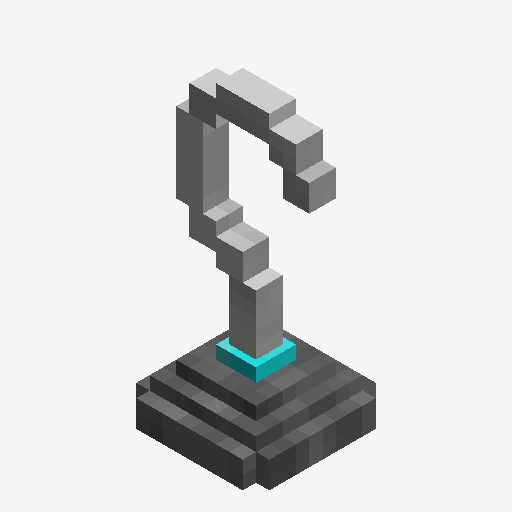
A Minecraft block model of 15 cuboids, rendered isometrically (azimuth 45°, elevation 35.3°) with the resource pack's own textures.
Visible parts, largest first — element 1, element 2, element 12, element 14, element 5, element 4, element 9, element 6, element 10, element 7, element 3, element 11 (+1 smaller).
Boxes of the visible parts, <box> form: element 1: <box>150,360,361,451</box>; element 2: <box>176,330,335,420</box>; element 12: <box>256,390,375,489</box>; element 14: <box>136,390,255,489</box>; element 5: <box>176,99,228,213</box>; element 4: <box>229,268,282,358</box>; element 9: <box>216,68,295,143</box>; element 6: <box>269,114,322,174</box>; element 10: <box>216,222,268,282</box>; element 7: <box>283,160,335,213</box>; element 3: <box>216,337,295,382</box>; element 11: <box>189,198,242,251</box>.
Bounding box in the file's own units: 5 × 10.75 × 5.